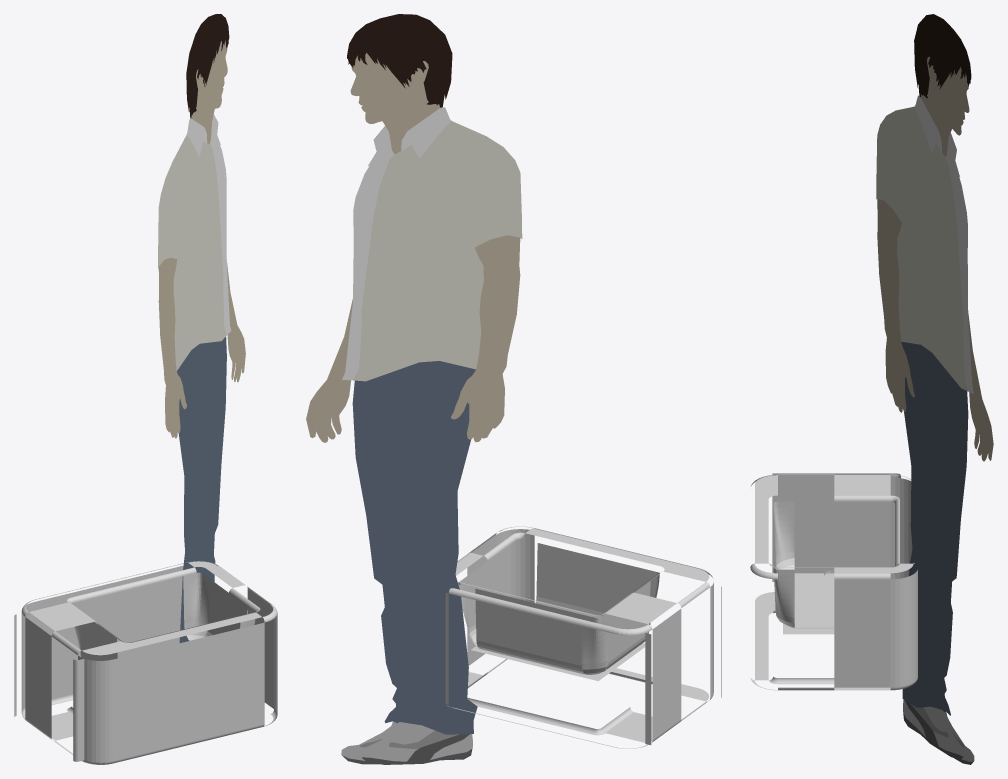
File: bidet.glb
3 renders of one model, left to right at view 1: azimuth 30°, elevation 25°; view 2: azimuth 150°, elevation 25°; view 3: azimuth 270°, elevation 25°, orthographic. The views are drawn at different scales.
Parts seen in each view (by area): view 1: Geom3D_3-50575.dwg, Geom3D (×4), Geom3D_Sang; view 2: Geom3D (×6), Geom3D_3-50575.dwg, Geom3D_Sang; view 3: Geom3D (×6), Geom3D_3-50575.dwg, Geom3D_Sang.
Part boxes in pixels (box(x1,y1,x2,y2)): Geom3D_3-50575.dwg: box(14, 561, 277, 764); Geom3D (×4): box(158, 14, 245, 642); Geom3D_Sang: box(186, 114, 231, 335); Geom3D (×6): box(306, 14, 522, 764); Geom3D_3-50575.dwg: box(445, 526, 721, 748); Geom3D_Sang: box(342, 107, 451, 380); Geom3D (×6): box(876, 14, 993, 764); Geom3D_3-50575.dwg: box(750, 473, 917, 690); Geom3D_Sang: box(914, 95, 973, 393).
Bounding box in the file's own units: 0.7403 × 1.76 × 0.5289.
